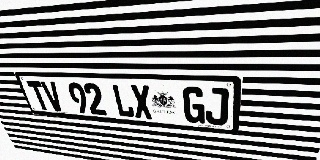2: (82, 83, 107, 115)
9: (66, 82, 91, 114)
G: (182, 86, 205, 124)
J: (205, 87, 229, 126)
L: (111, 84, 135, 118)
T: (26, 81, 51, 111)
V: (40, 81, 65, 112)
X: (130, 84, 153, 119)
